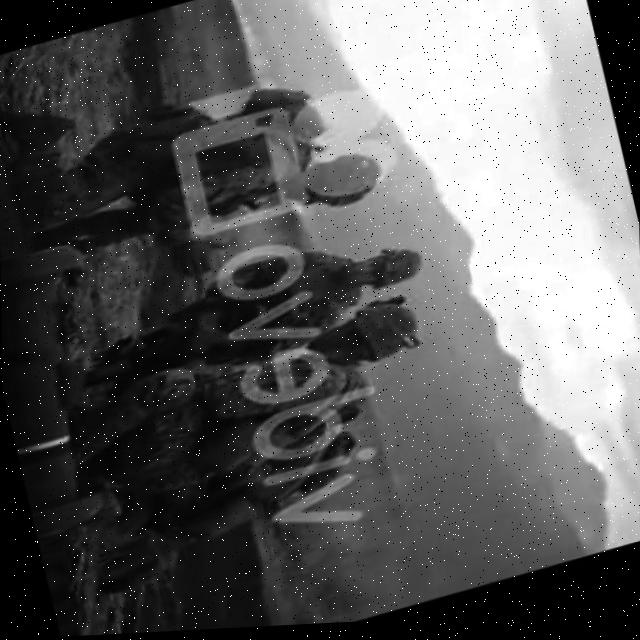rocket: (0, 239, 144, 543)
